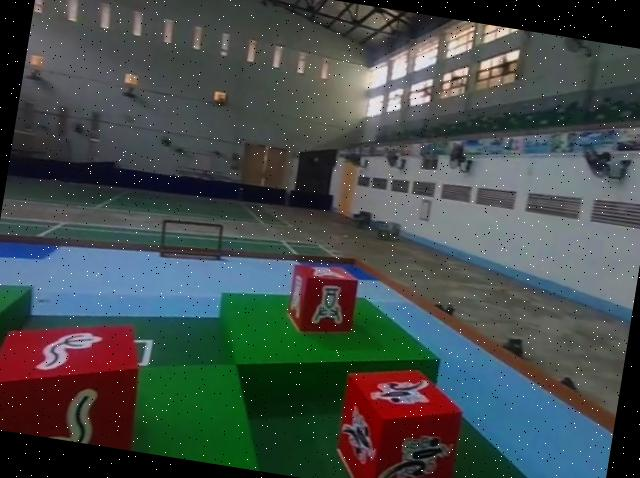R1: (326, 355, 470, 478)
R2 Real: (0, 299, 147, 450), (281, 254, 365, 340)
